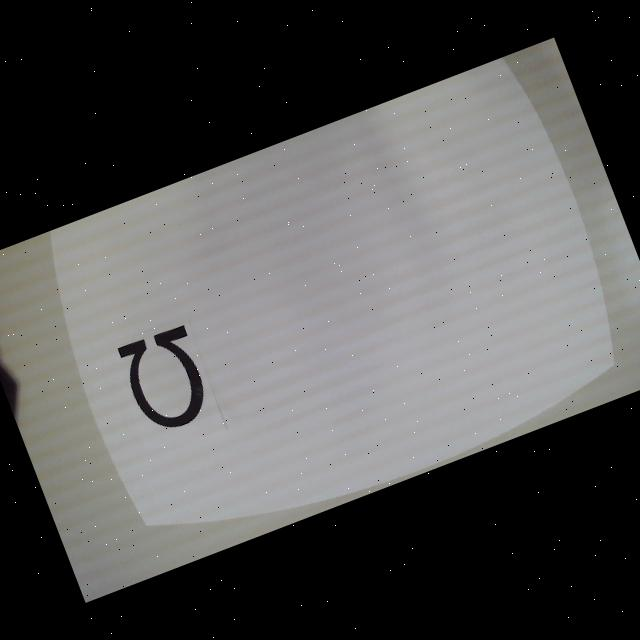OMEGA: (116, 322, 219, 438)
